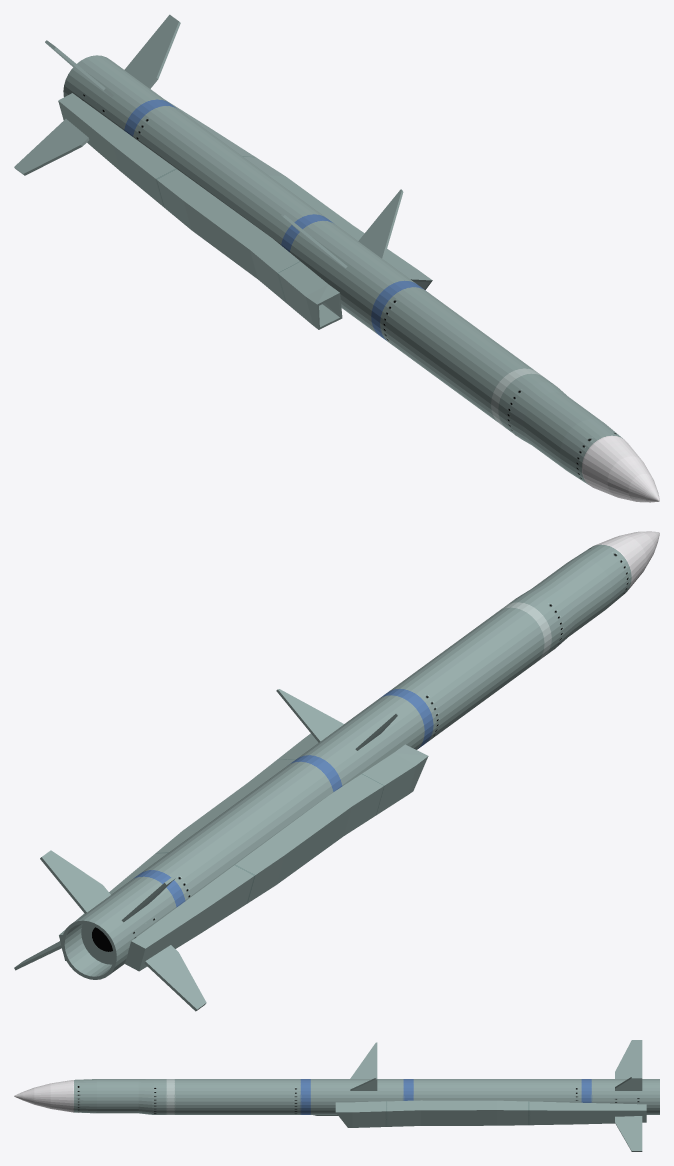
The model's file is rocket.obj.
3 views of the same model, one above another, from view 1: azimuth 30°, elevation 25°; view 2: azimuth 150°, elevation 25°; view 3: azimuth 270°, elevation 25° (orthographic). The views are drawn at different scales.
Parts seen in each view (by area): view 1: Cylinder, Cube.000_Cube.005, Cube.002_Cube.004; view 2: Cylinder, Cube.000_Cube.005, Cube.002_Cube.004, Cylinder.001; view 3: Cylinder, Cube.000_Cube.005, Cube.002_Cube.004.
Part boxes in pixels (box(x1,y1,x2,y2)): Cylinder: box(63, 55, 659, 502); Cube.000_Cube.005: box(58, 93, 432, 329); Cube.002_Cube.004: box(14, 14, 403, 268); Cylinder: box(72, 531, 659, 974); Cube.000_Cube.005: box(59, 733, 428, 971); Cube.002_Cube.004: box(14, 689, 398, 1011); Cylinder.001: box(61, 920, 116, 979); Cylinder: box(14, 1079, 659, 1115); Cube.000_Cube.005: box(335, 1100, 646, 1127); Cube.002_Cube.004: box(350, 1040, 642, 1151).
Size of the model in its own units: 10.37 by 6.72 by 55.8.
2 materials, 2 textured.
